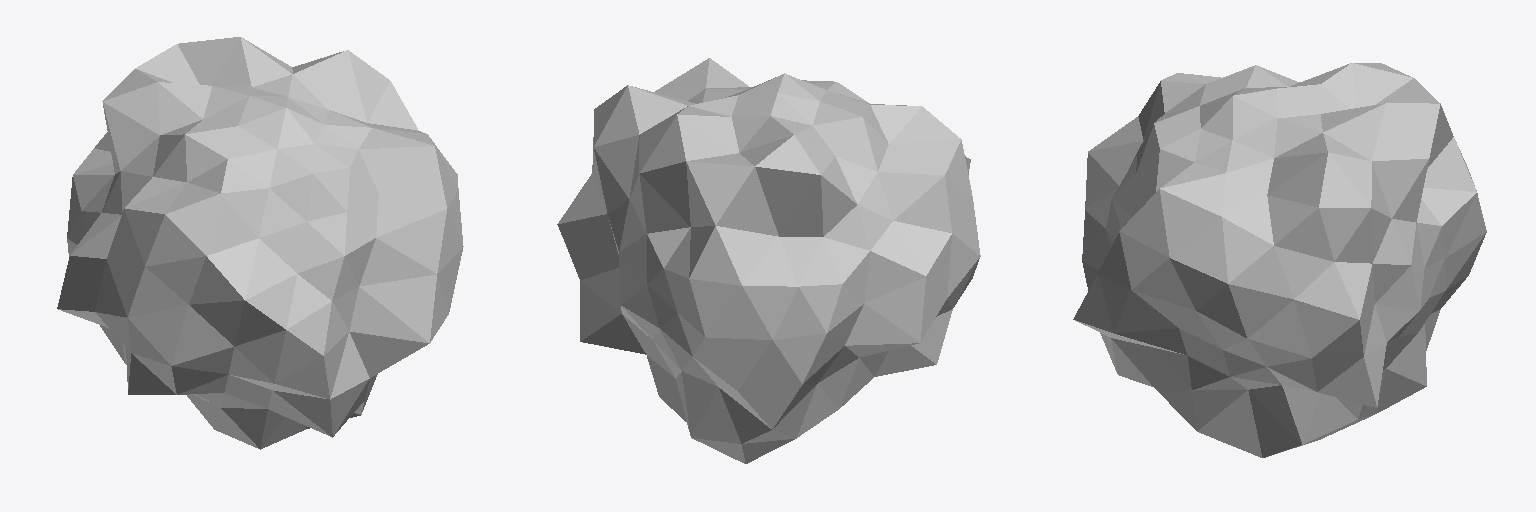
The model's file is asteroid5_collider.obj.
3 renders of one model, left to right at view 1: azimuth 30°, elevation 25°; view 2: azimuth 150°, elevation 25°; view 3: azimuth 270°, elevation 25°, orthographic.
Visible parts, largest first — view 1: Collider5; view 2: Collider5; view 3: Collider5.
Boxes of the visible parts, x1=… form: Collider5: x1=57, y1=37, x2=463, y2=449; Collider5: x1=557, y1=58, x2=980, y2=463; Collider5: x1=1073, y1=63, x2=1486, y2=457.
Bounding box in the file's own units: 2.12 × 1.97 × 2.16.